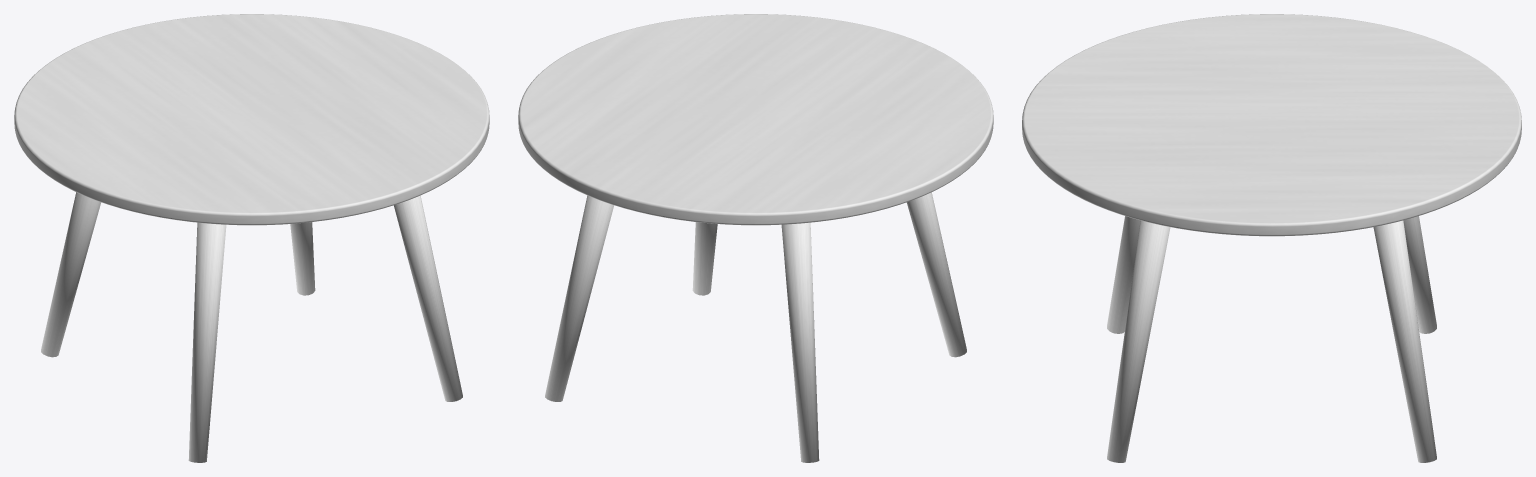
Rendered from table-round.glb.
3 views of the same model, side by side, from view 1: azimuth 30°, elevation 25°; view 2: azimuth 150°, elevation 25°; view 3: azimuth 270°, elevation 25° (orthographic). The views are drawn at different scales.
Parts seen in each view (by area): view 1: Round solid-wood top, Tapered wooden table leg, Tapered wooden table leg.002, Tapered wooden table leg.001, Tapered wooden table leg.003; view 2: Round solid-wood top, Tapered wooden table leg.001, Tapered wooden table leg.003, Tapered wooden table leg, Tapered wooden table leg.002; view 3: Round solid-wood top, Tapered wooden table leg.002, Tapered wooden table leg.003, Tapered wooden table leg, Tapered wooden table leg.001.
Boxes of the visible parts, left/top/right/bottom form: Round solid-wood top: left=14, top=14, right=489, bottom=225; Tapered wooden table leg: left=188, top=222, right=226, bottom=462; Tapered wooden table leg.002: left=394, top=195, right=462, bottom=401; Tapered wooden table leg.001: left=41, top=192, right=101, bottom=357; Tapered wooden table leg.003: left=290, top=222, right=315, bottom=295; Round solid-wood top: left=518, top=14, right=993, bottom=225; Tapered wooden table leg.001: left=781, top=222, right=819, bottom=462; Tapered wooden table leg.003: left=545, top=195, right=613, bottom=401; Tapered wooden table leg: left=906, top=192, right=966, bottom=357; Tapered wooden table leg.002: left=692, top=222, right=717, bottom=295; Round solid-wood top: left=1022, top=14, right=1521, bottom=236; Tapered wooden table leg.002: left=1107, top=220, right=1170, bottom=462; Tapered wooden table leg.003: left=1373, top=220, right=1436, bottom=462; Tapered wooden table leg: left=1107, top=216, right=1140, bottom=333; Tapered wooden table leg.001: left=1403, top=216, right=1436, bottom=333.
Size of the model in its own units: 1.22 by 0.7474 by 1.22.
1 material, 1 textured.
